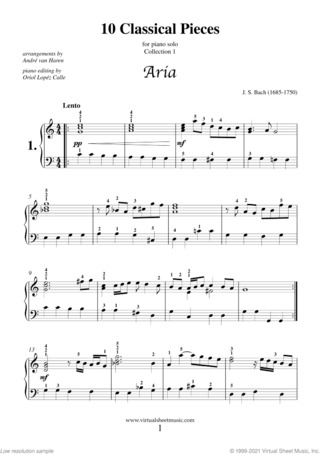Partitura: (11, 13, 311, 435)
